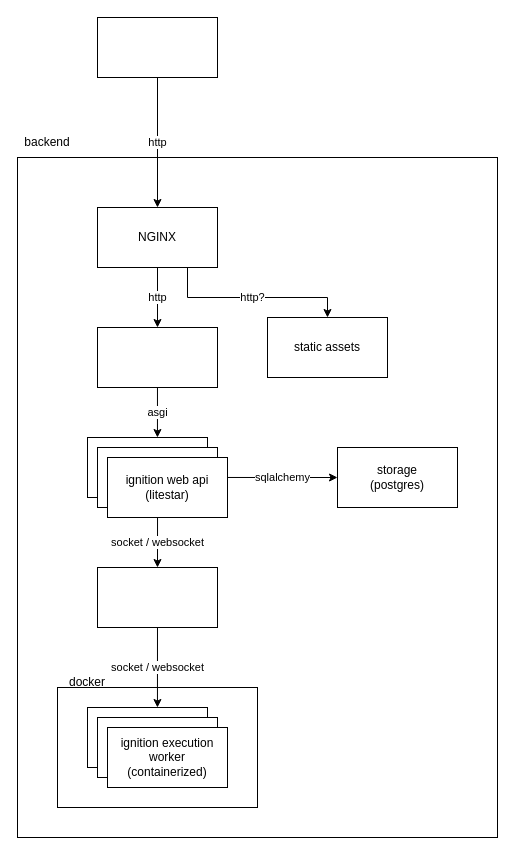
Image size: 515x855. Some labels were removed from this diagram. Each missing label, with the box of its shape:
ignition execution master: (96, 566, 218, 628)
UI (next / react): (96, 16, 218, 78)
uvicorn: (96, 326, 218, 388)
